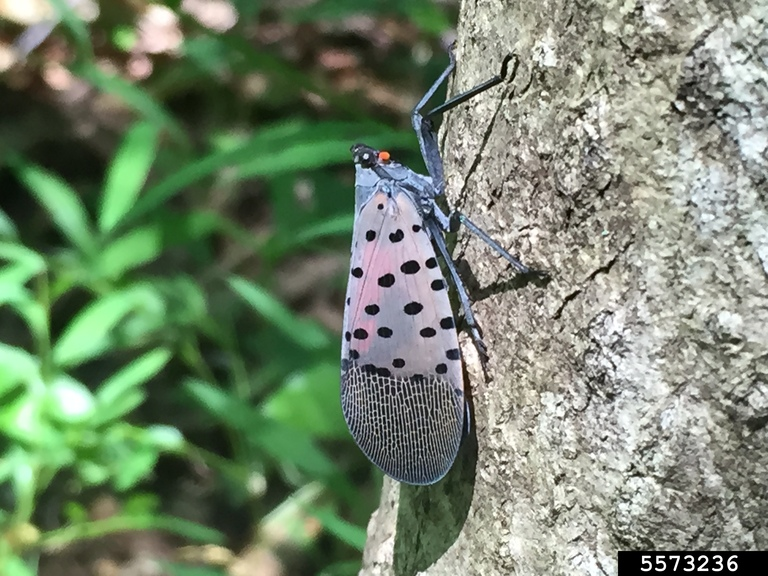adult: (316, 64, 505, 470)
